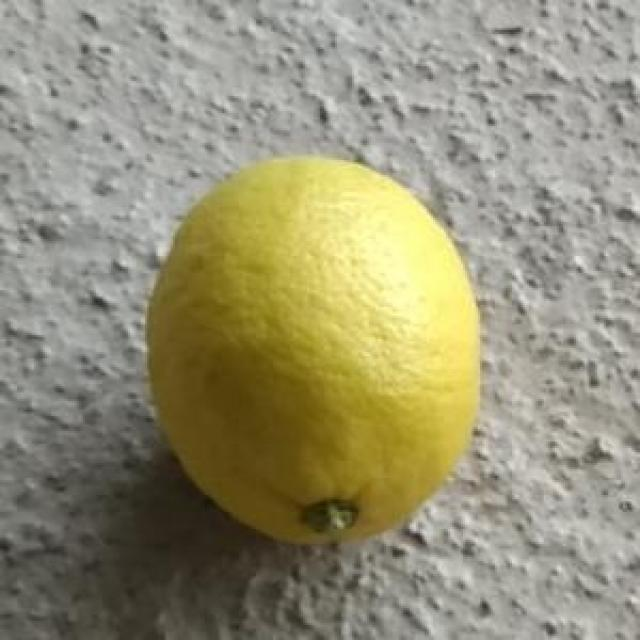lemon: (143, 154, 480, 556)
